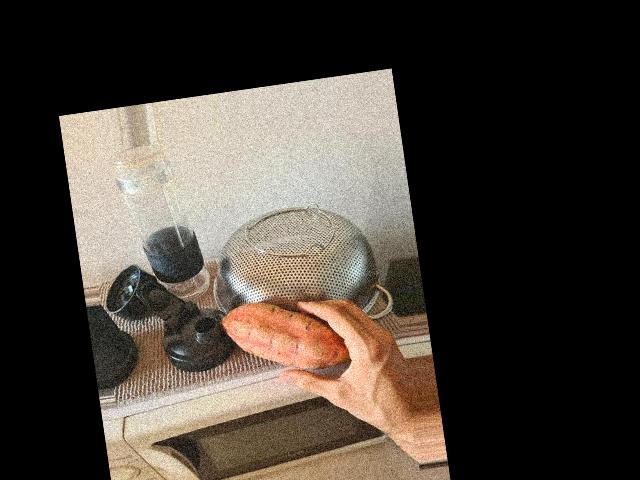sweet_potato: (219, 291, 349, 380)
